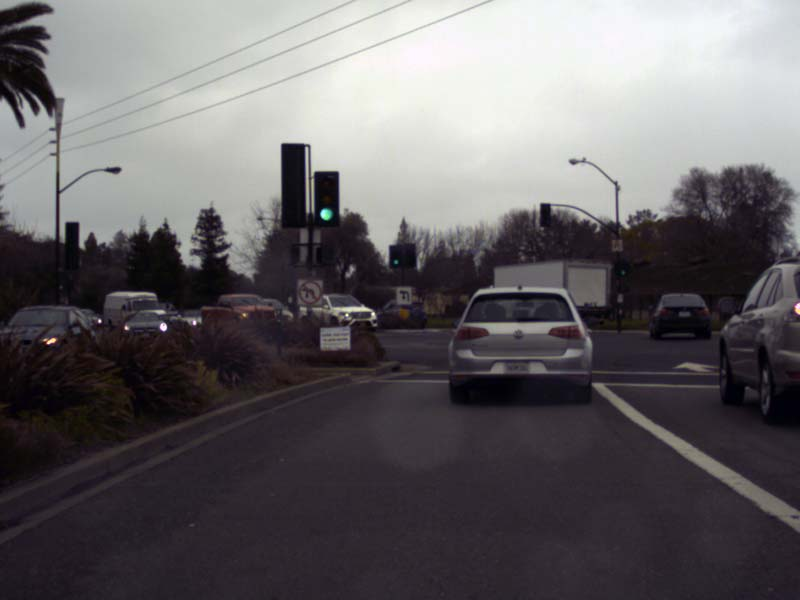Green: (312, 170, 339, 223), (389, 245, 401, 267)
Red: (404, 244, 415, 266), (540, 203, 550, 226)
